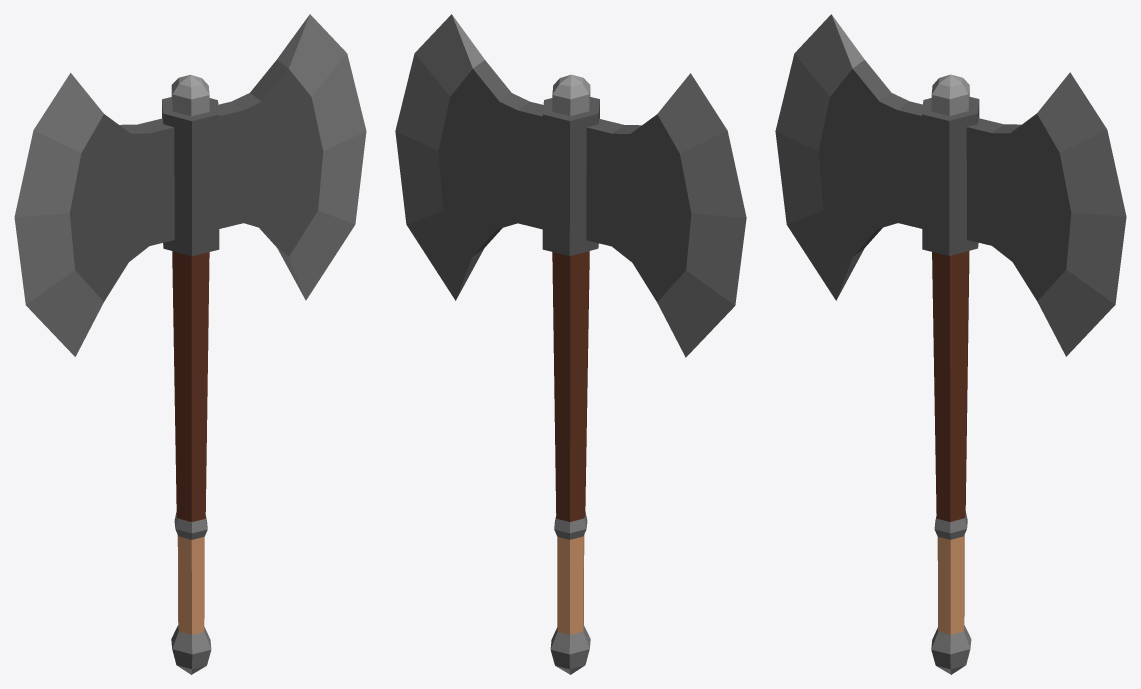
3 views of the same model, side by side, from view 1: azimuth 30°, elevation 25°; view 2: azimuth 150°, elevation 25°; view 3: azimuth 330°, elevation 25° (orthographic).
Parts seen in each view (by area): view 1: Ax_G; view 2: Ax_G; view 3: Ax_G.
Boxes of the visible parts, <box> form: Ax_G: <box>14,14,366,674</box>; Ax_G: <box>395,14,746,674</box>; Ax_G: <box>775,14,1126,674</box>.
Size of the model in its own units: 65.53 by 113 by 9.69.
